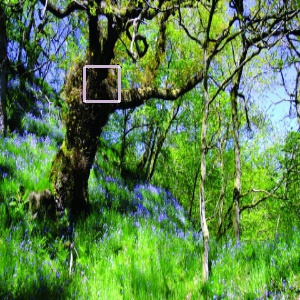square: (81, 63, 123, 105)
